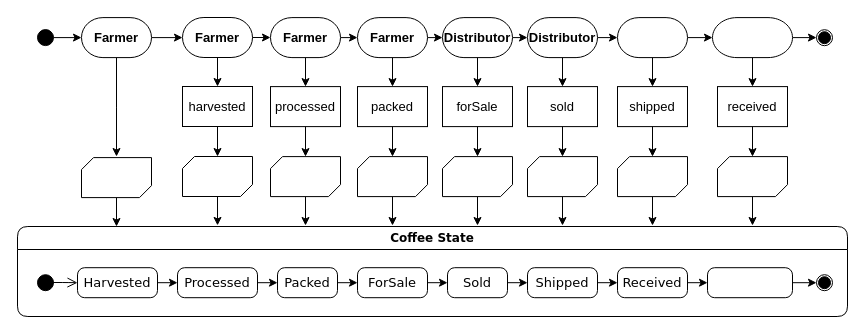
The diagram is 865 pixels wide and 334 high, and some of its shapes have lost their labels. The shapes that lost their labels are listed below. From the top down, each one's centre as x and y in pixels, then its label:
At (x=652, y=37): "Retailer".
At (x=752, y=37): "Consumer".
At (x=116, y=177): "harvest Item".
At (x=217, y=176): "process Item".
At (x=305, y=176): "pack Item".
At (x=392, y=176): "sell Item".
At (x=477, y=176): "buy Item".
At (x=562, y=176): "ship Item".
At (x=652, y=176): "receive Item".
At (x=752, y=176): "purchase Item".
At (x=749, y=282): "Purchased".
